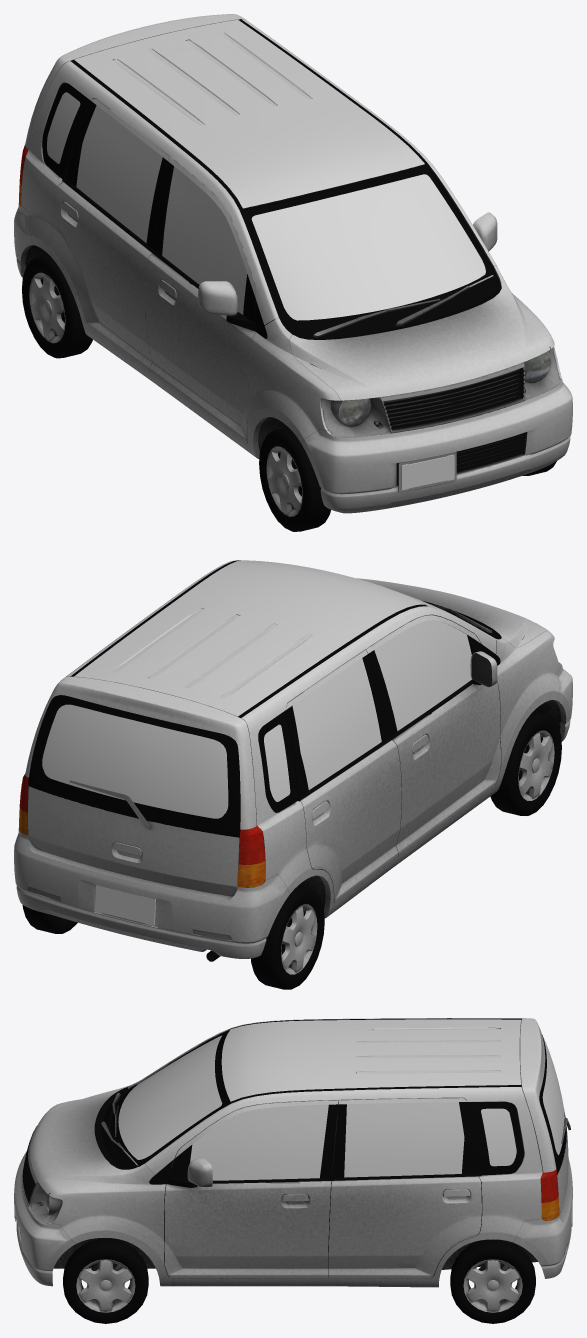
The model's file is TRAFFIC_008.fbx.
3 views of the same model, one above another, from view 1: azimuth 30°, elevation 25°; view 2: azimuth 150°, elevation 25°; view 3: azimuth 270°, elevation 25° (orthographic). The views are drawn at different scales.
Visible parts, largest first — view 1: TRAFFIC_008 Body, TRAFFIC_008 Glass, TRAFFIC_008 WFR, TRAFFIC_008 WRR, TRAFFIC_008 Signs; view 2: TRAFFIC_008 Body, TRAFFIC_008 Glass, TRAFFIC_008 WRR, TRAFFIC_008 WFR, TRAFFIC_008 Signs, TRAFFIC_008 WRL; view 3: TRAFFIC_008 Body, TRAFFIC_008 Glass, TRAFFIC_008 WFL, TRAFFIC_008 WRL.
Boxes of the visible parts, x1,y1,x2,y2 form: TRAFFIC_008 Body: (14, 14, 572, 513); TRAFFIC_008 Glass: (47, 92, 485, 320); TRAFFIC_008 WFR: (259, 427, 330, 531); TRAFFIC_008 WRR: (22, 254, 92, 358); TRAFFIC_008 Signs: (401, 454, 454, 489); TRAFFIC_008 Body: (14, 560, 572, 961); TRAFFIC_008 Glass: (42, 591, 471, 818); TRAFFIC_008 WRR: (251, 885, 324, 989); TRAFFIC_008 WFR: (490, 711, 561, 815); TRAFFIC_008 Signs: (94, 885, 155, 925); TRAFFIC_008 WRL: (22, 905, 77, 933); TRAFFIC_008 Body: (14, 1018, 572, 1287); TRAFFIC_008 Glass: (118, 1035, 564, 1180); TRAFFIC_008 WFL: (63, 1238, 148, 1323); TRAFFIC_008 WRL: (450, 1239, 535, 1323).
Size of the model in its own units: 206 by 184 by 413.
